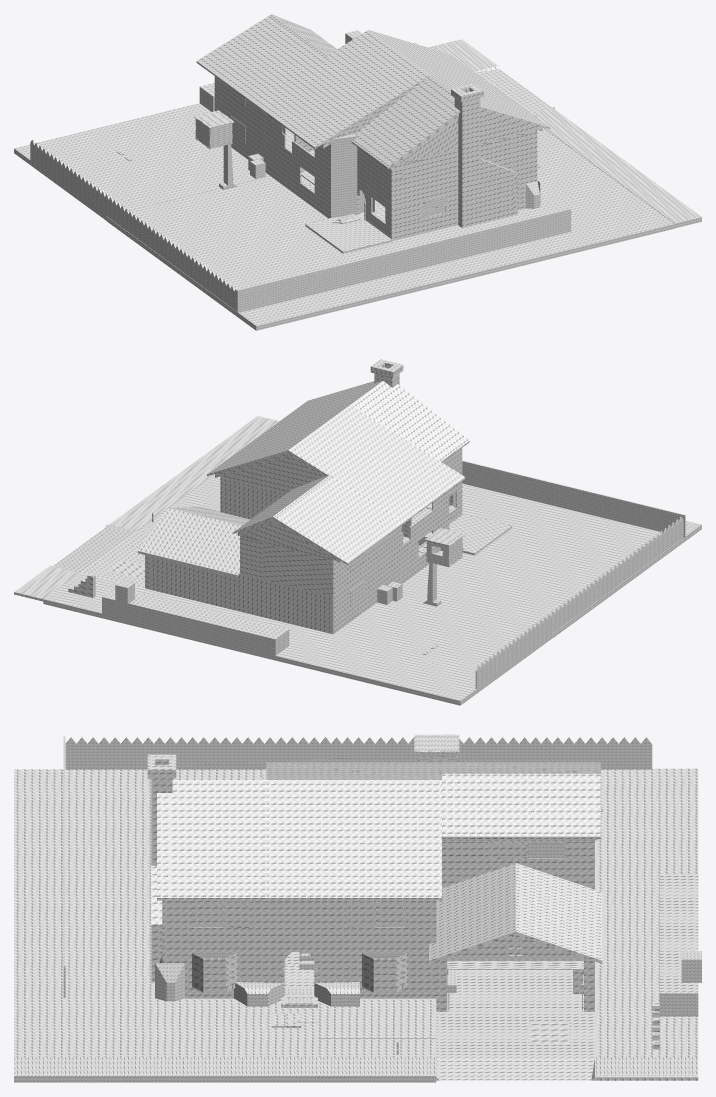
The model's file is simpson-house.obj.
3 renders of one model, top to bottom at view 1: azimuth 30°, elevation 25°; view 2: azimuth 150°, elevation 25°; view 3: azimuth 270°, elevation 25°, orthographic. The views are drawn at different scales.
Visible parts, largest first — view 1: entity0_brush1516, entity0_brush699, entity0_brush1196, entity0_brush123, entity0_brush641, entity0_brush1197, entity0_brush811, entity0_brush156, entity0_brush155, entity0_brush808, entity0_brush1455, entity0_brush1489 (+23 smaller); view 2: entity0_brush1516, entity0_brush1197, entity0_brush699, entity0_brush1196, entity0_brush174, entity0_brush641, entity0_brush1202, entity0_brush1013, entity0_brush811, entity0_brush156, entity0_brush155, entity0_brush123 (+19 smaller); view 3: entity0_brush1516, entity0_brush1197, entity0_brush808, entity0_brush812, entity0_brush156, entity0_brush155, entity0_brush696, entity0_brush1013, entity0_brush1202, entity0_brush291, entity0_brush1014, entity0_brush1198 (+43 smaller).
Boxes of the visible parts, <box> form: entity0_brush1516: <box>106,127,674,330</box>; entity0_brush699: <box>254,31,429,148</box>; entity0_brush1196: <box>50,139,270,220</box>; entity0_brush123: <box>237,214,570,312</box>; entity0_brush641: <box>196,15,325,103</box>; entity0_brush1197: <box>14,46,437,179</box>; entity0_brush811: <box>351,75,455,165</box>; entity0_brush156: <box>531,107,701,228</box>; entity0_brush155: <box>30,143,226,303</box>; entity0_brush808: <box>369,30,511,99</box>; entity0_brush1455: <box>331,134,357,217</box>; entity0_brush1489: <box>237,209,571,312</box>; entity0_brush1516: <box>136,474,701,637</box>; entity0_brush1197: <box>43,572,496,705</box>; entity0_brush699: <box>290,405,465,521</box>; entity0_brush1196: <box>334,597,552,678</box>; entity0_brush174: <box>149,556,335,634</box>; entity0_brush641: <box>273,477,403,564</box>; entity0_brush1202: <box>102,587,289,657</box>; entity0_brush1013: <box>138,508,241,577</box>; entity0_brush811: <box>350,381,465,462</box>; entity0_brush156: <box>109,416,279,531</box>; entity0_brush155: <box>475,529,671,688</box>; entity0_brush123: <box>462,466,683,531</box>; entity0_brush1516: <box>14,769,436,1057</box>; entity0_brush1197: <box>595,768,698,1057</box>; entity0_brush808: <box>266,780,441,900</box>; entity0_brush812: <box>170,780,266,900</box>; entity0_brush156: <box>14,1057,436,1082</box>; entity0_brush155: <box>99,744,652,769</box>; entity0_brush696: <box>436,773,600,839</box>; entity0_brush1013: <box>515,863,602,963</box>; entity0_brush1202: <box>659,873,698,1016</box>; entity0_brush291: <box>447,969,583,1008</box>; entity0_brush1014: <box>436,863,515,941</box>; entity0_brush1198: <box>436,1057,594,1080</box>.
Size of the model in its own units: 1588 by 467 by 1492.
